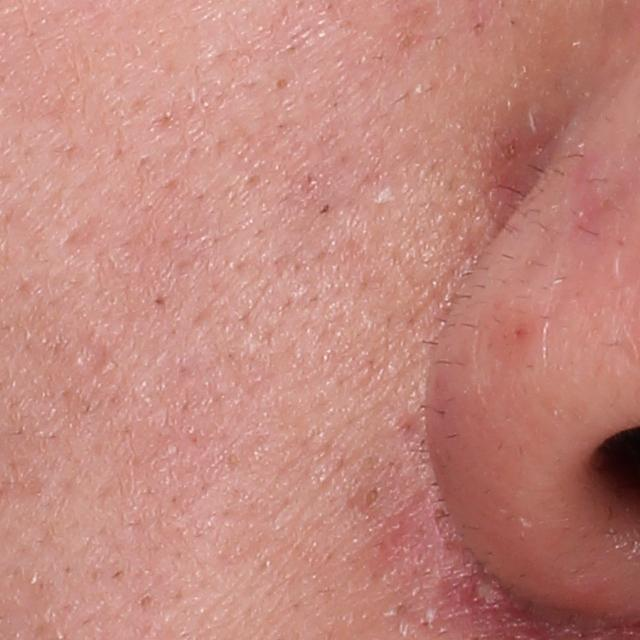comedo: (266, 72, 292, 95), (362, 482, 384, 504), (316, 201, 331, 215)
